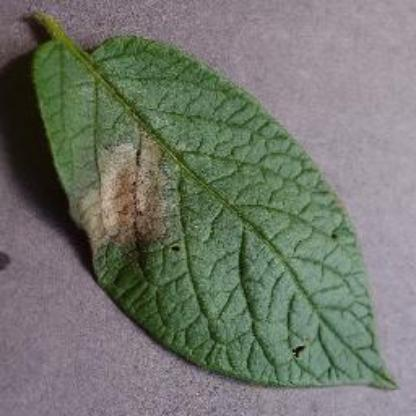Late-Blight: (20, 5, 406, 396)
